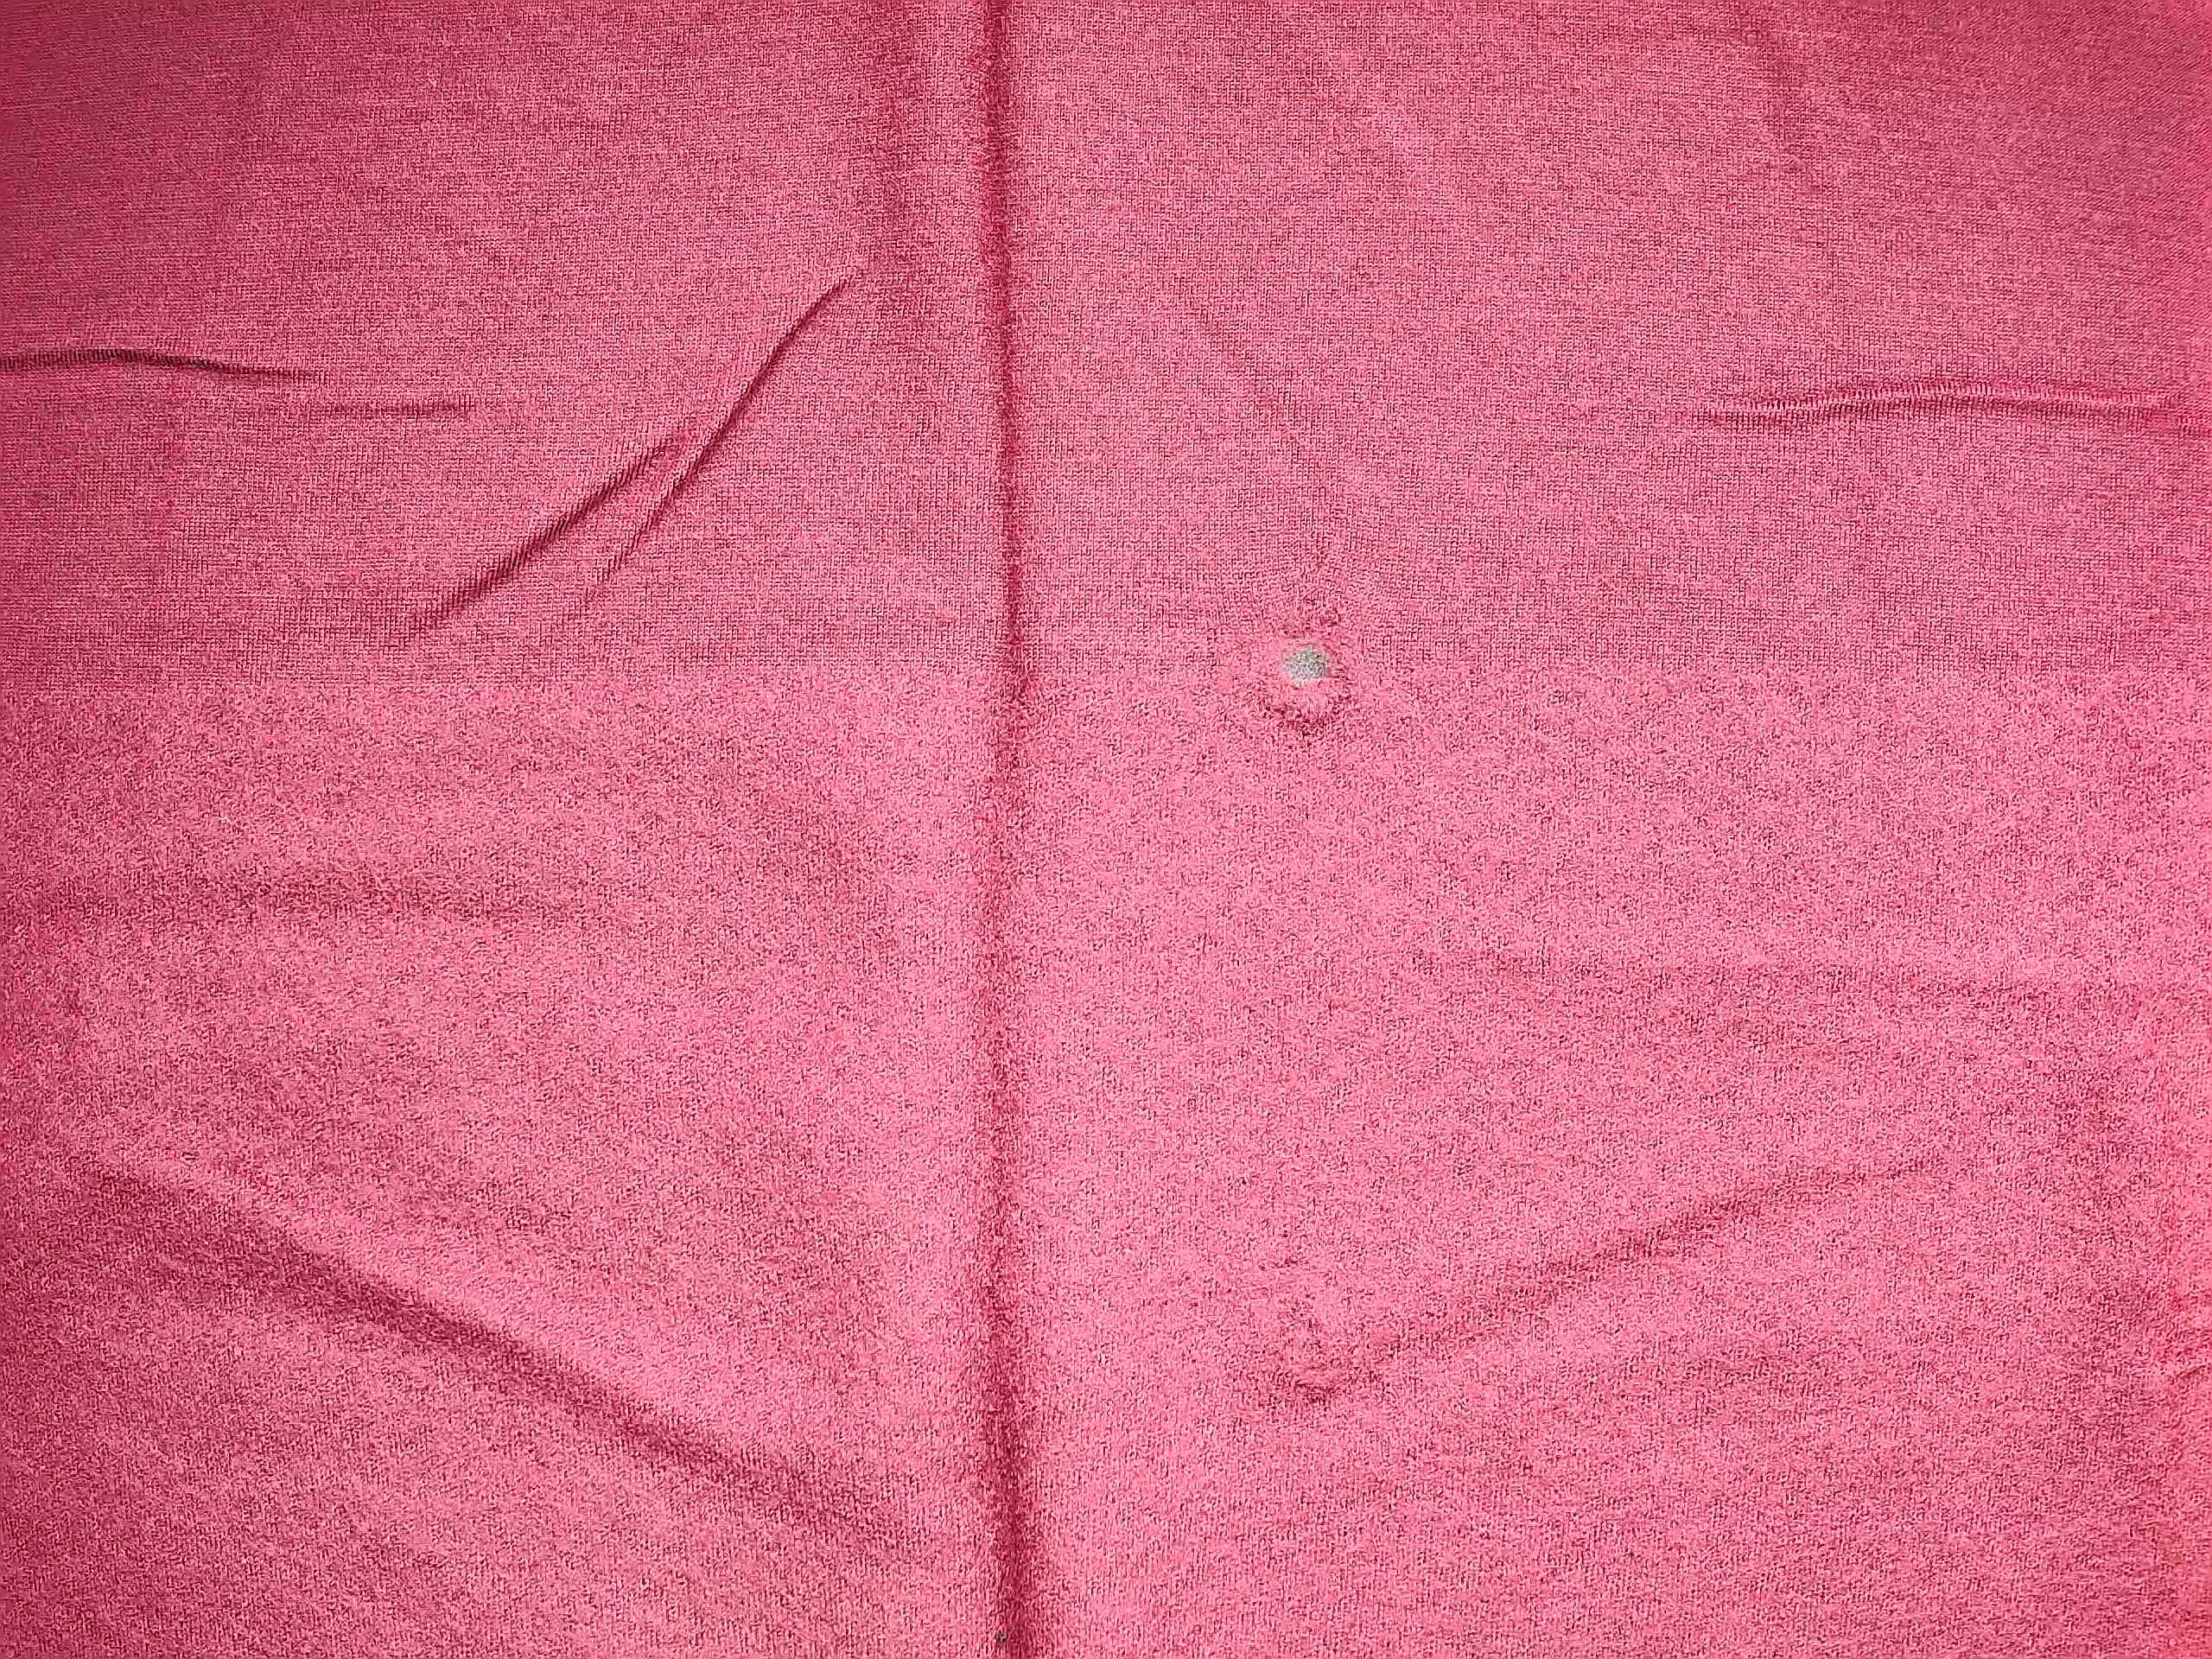others: (1240, 542, 1383, 772), (1254, 1265, 1385, 1432)
